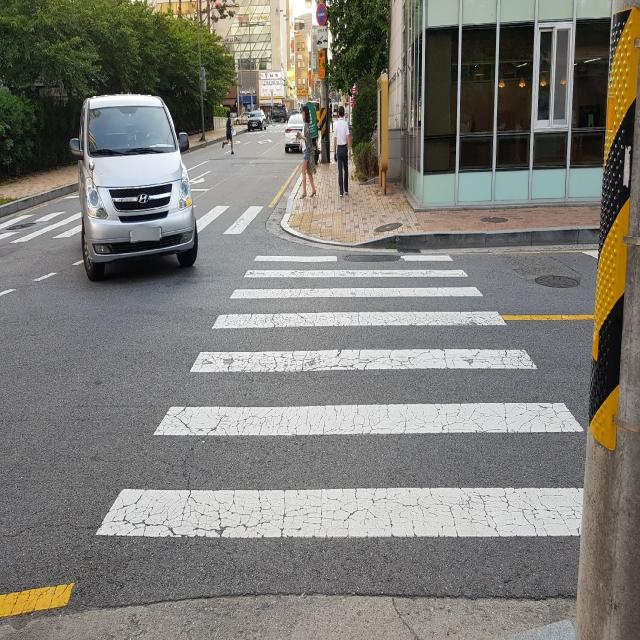횡단보도: (94, 253, 589, 541), (202, 206, 263, 237), (8, 216, 78, 237)
